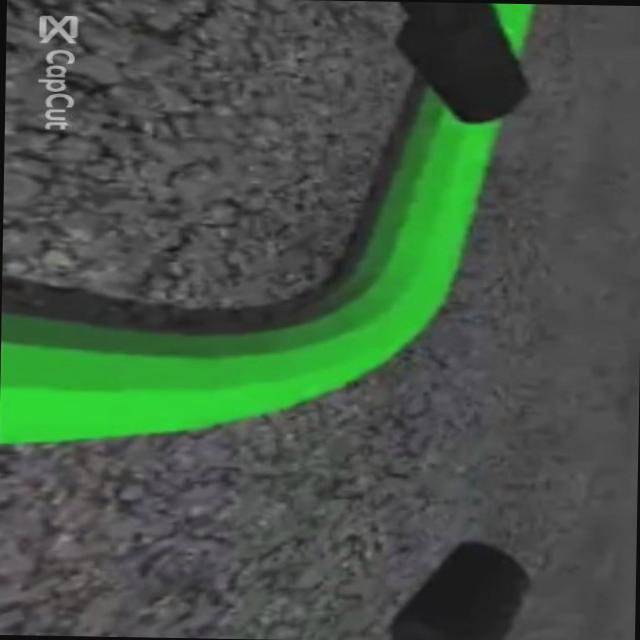gas: (0, 131, 493, 455)
